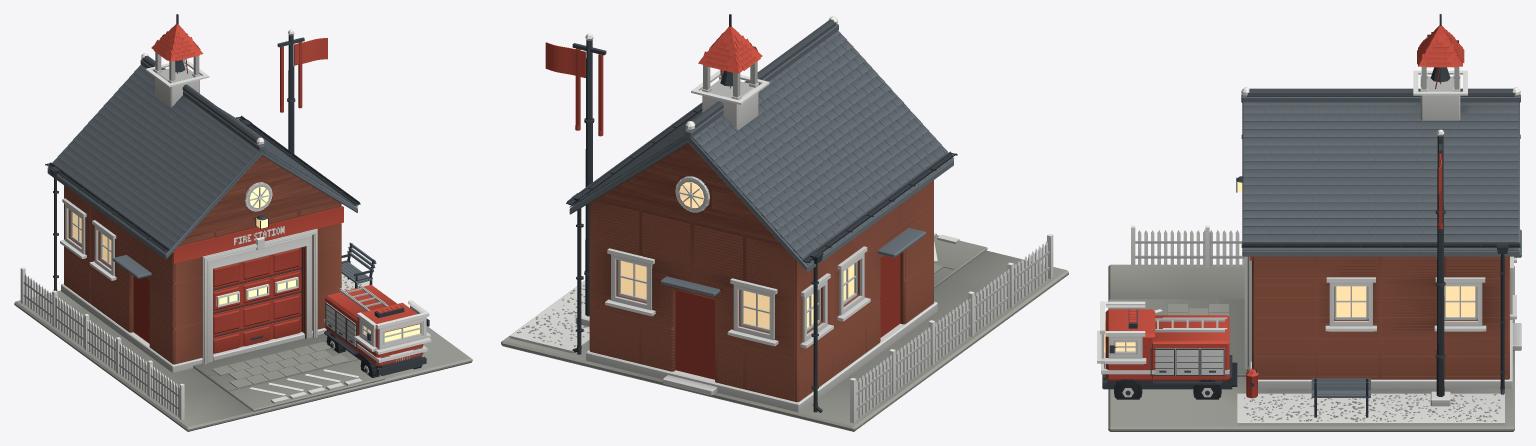
Rendered from village-fire-near.glb.
3 renders of one model, left to right at view 1: azimuth 30°, elevation 25°; view 2: azimuth 150°, elevation 25°; view 3: azimuth 270°, elevation 25°, orthographic. The views are drawn at different scales.
Parts seen in each view (by area): view 1: VFire1Near, VFire2Near, VFire1Near.Flag.0; view 2: VFire1Near, VFire1Near.Flag.0; view 3: VFire1Near, VFire2Near.
Part boxes in pixels (x1=…): VFire1Near: x1=14, y1=14, x2=472, y2=431; VFire2Near: x1=251, y1=283, x2=431, y2=377; VFire1Near.Flag.0: x1=294, y1=38, x2=327, y2=65; VFire1Near: x1=501, y1=14, x2=1068, y2=431; VFire1Near.Flag.0: x1=545, y1=42, x2=585, y2=77; VFire1Near: x1=1108, y1=14, x2=1521, y2=431; VFire2Near: x1=1097, y1=250, x2=1514, y2=399.
Bounding box in the file's own units: 7.8 × 7.36 × 8.57.
